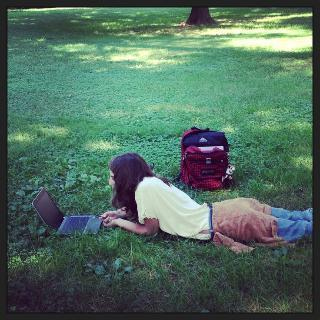person - v3 P: (100, 153, 312, 252)
